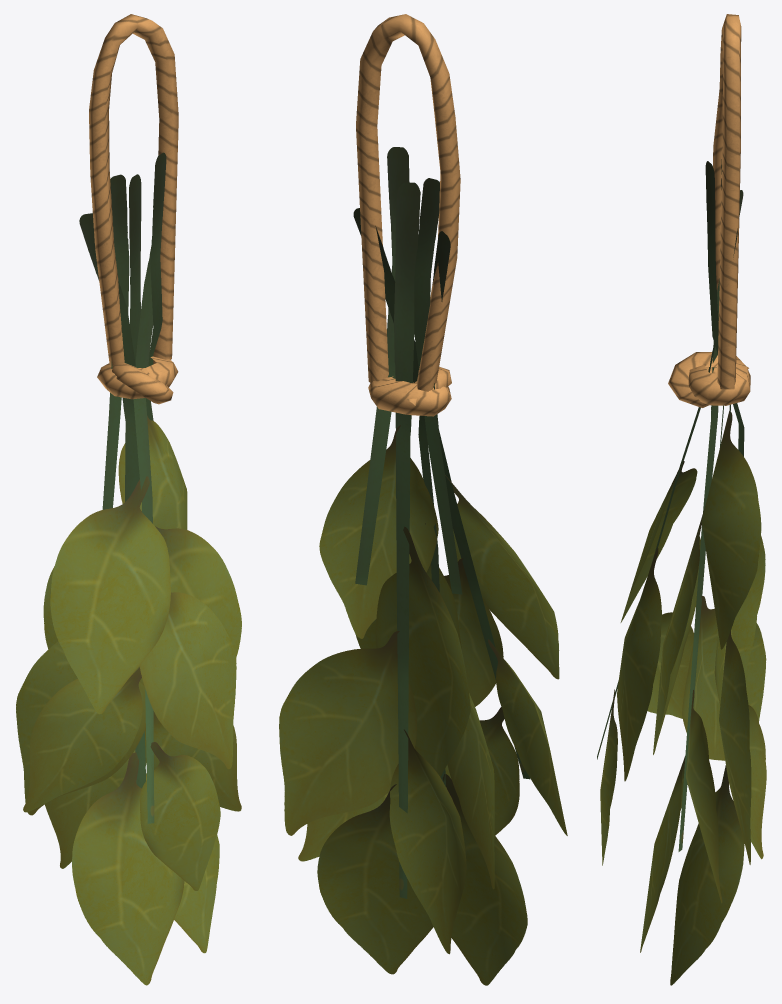
Rendered from SM_Potion_Props_Herb_Broom_Wall_01.fbx.
3 views of the same model, side by side, from view 1: azimuth 30°, elevation 25°; view 2: azimuth 150°, elevation 25°; view 3: azimuth 270°, elevation 25° (orthographic). The views are drawn at different scales.
Visible parts, largest first — view 1: SM_Potion_Props_Herb_Broom_Wall_01_LOD0; view 2: SM_Potion_Props_Herb_Broom_Wall_01_LOD0; view 3: SM_Potion_Props_Herb_Broom_Wall_01_LOD0.
Part boxes in pixels (left/top/right/bottom): SM_Potion_Props_Herb_Broom_Wall_01_LOD0: left=16, top=14, right=241, bottom=985; SM_Potion_Props_Herb_Broom_Wall_01_LOD0: left=279, top=14, right=567, bottom=985; SM_Potion_Props_Herb_Broom_Wall_01_LOD0: left=597, top=14, right=766, bottom=985.
Size of what is drawn, in the model's own units: 17.69 by 65.49 by 10.6.
